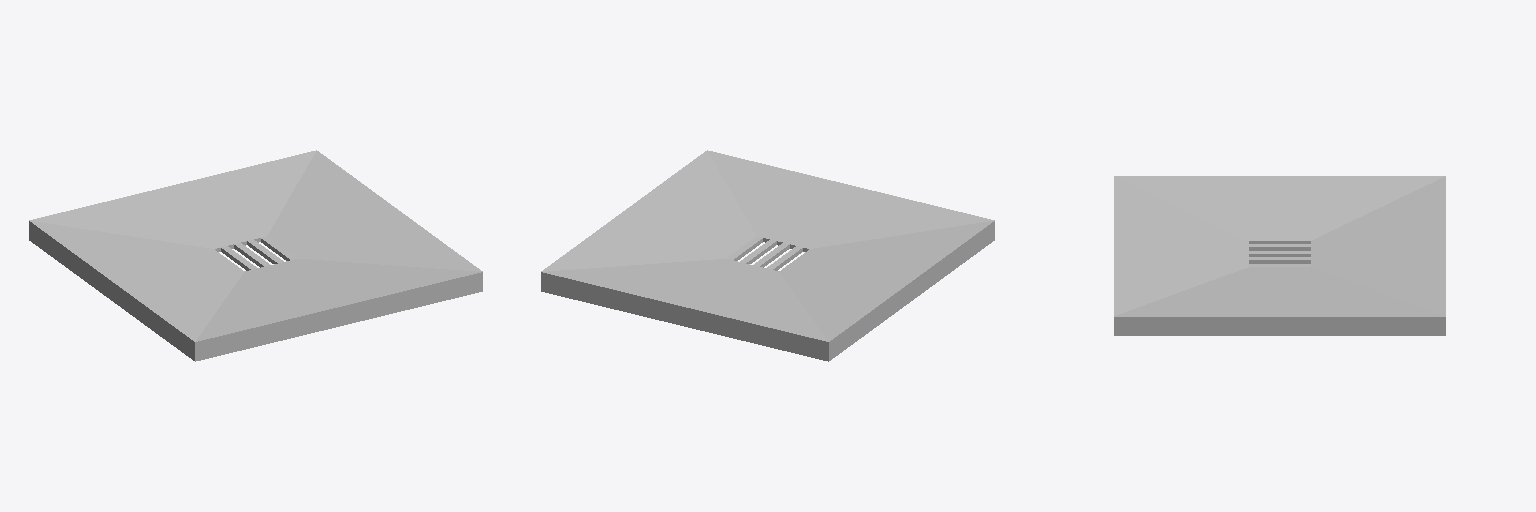
Rendered from stencil2.obj.
3 views of the same model, side by side, from view 1: azimuth 30°, elevation 25°; view 2: azimuth 150°, elevation 25°; view 3: azimuth 270°, elevation 25° (orthographic).
Size of the model in its own units: 19.55 by 1.27 by 19.55.